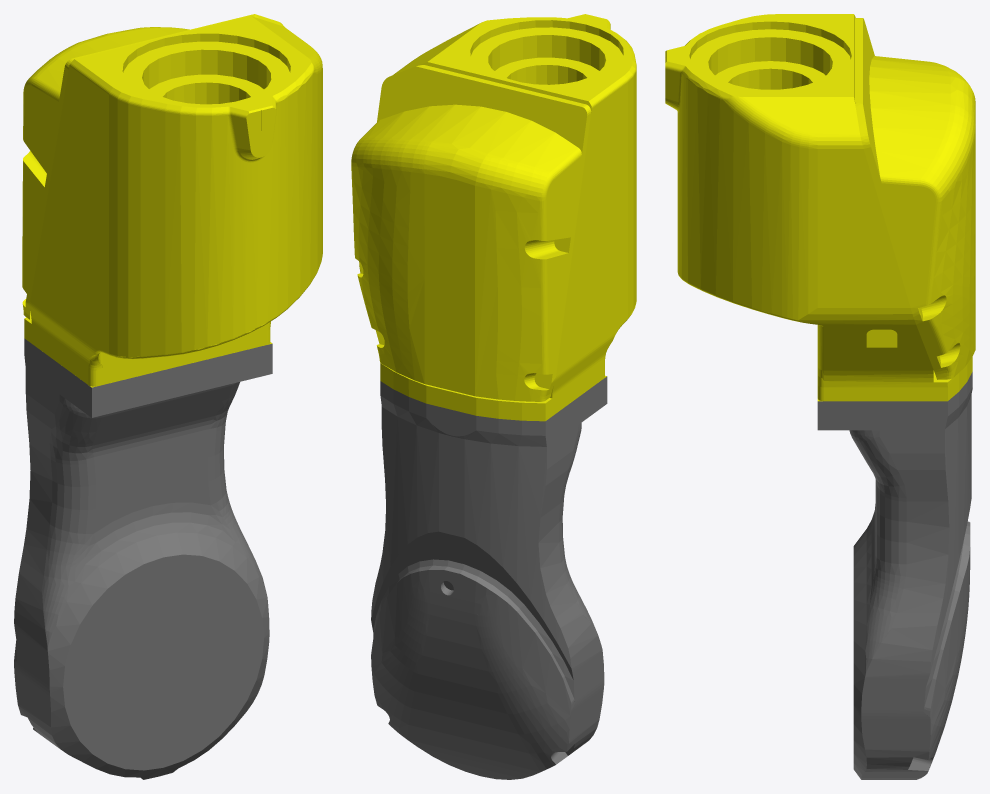
File: arm4.dae
3 renders of one model, left to right at view 1: azimuth 30°, elevation 25°; view 2: azimuth 150°, elevation 25°; view 3: azimuth 270°, elevation 25°, orthographic. The views are drawn at different scales.
Visible parts, largest first — view 1: G_1_4; view 2: G_1_4; view 3: G_1_4.
Boxes of the visible parts, bbox=[...] form: G_1_4: bbox=[14, 14, 322, 779]; G_1_4: bbox=[351, 14, 636, 779]; G_1_4: bbox=[665, 14, 975, 779].
Bounding box in the file's own units: 0.172 × 0.2005 × 0.5103.
